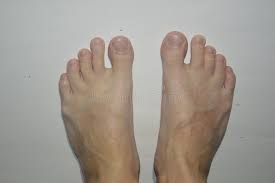Feet: (153, 30, 237, 182), (58, 35, 141, 183)
